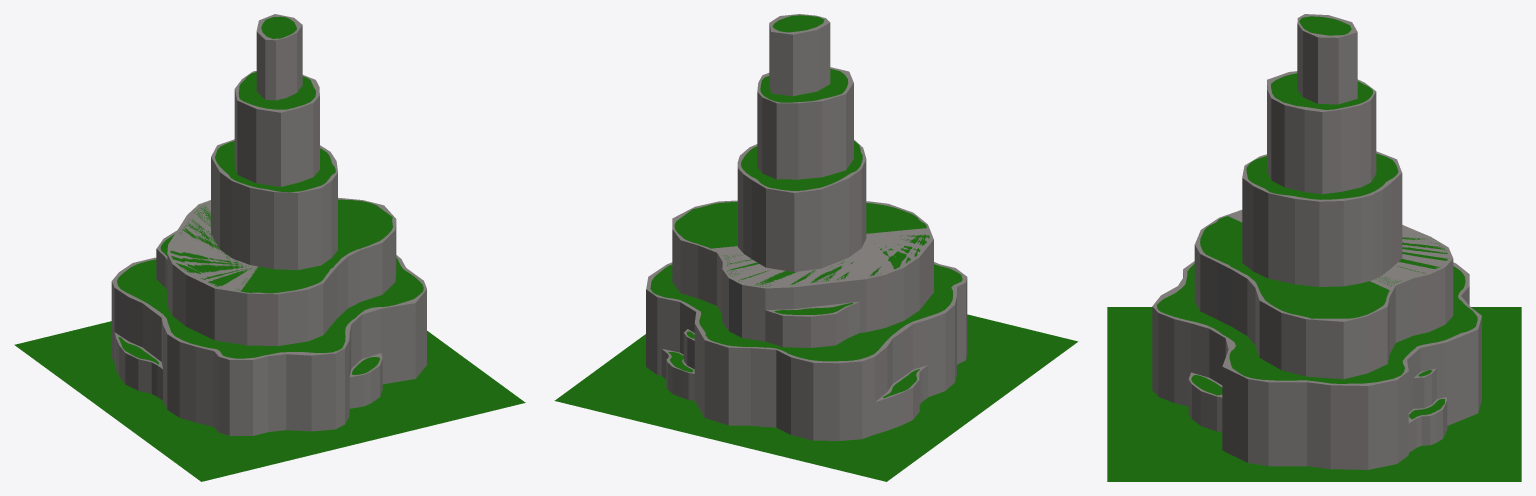
The model's file is MountainPeak.fbx.
3 views of the same model, side by side, from view 1: azimuth 30°, elevation 25°; view 2: azimuth 150°, elevation 25°; view 3: azimuth 270°, elevation 25° (orthographic). The views are drawn at different scales.
Visible parts, largest first — view 1: Plane.008; view 2: Plane.008; view 3: Plane.008.
Boxes of the visible parts, x1=… form: Plane.008: x1=14, y1=14, x2=525, y2=481; Plane.008: x1=554, y1=14, x2=1078, y2=481; Plane.008: x1=1107, y1=14, x2=1521, y2=481.
Bounding box in the file's own units: 100 × 100 × 100.
